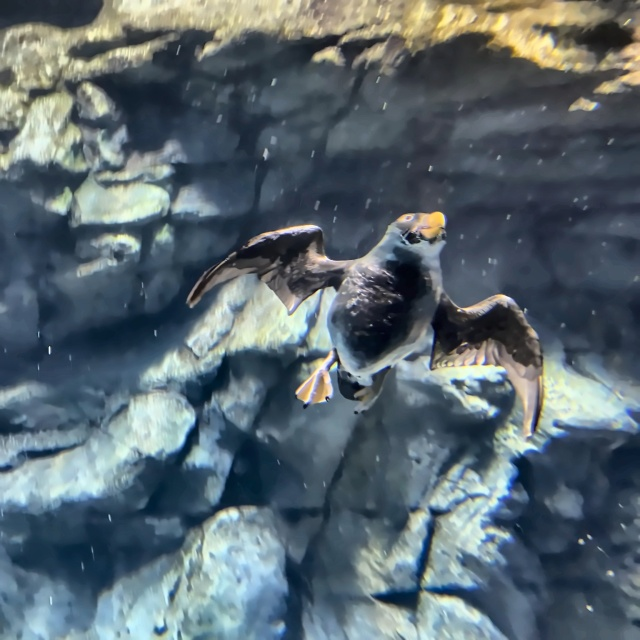puffin: (186, 194, 561, 441)
